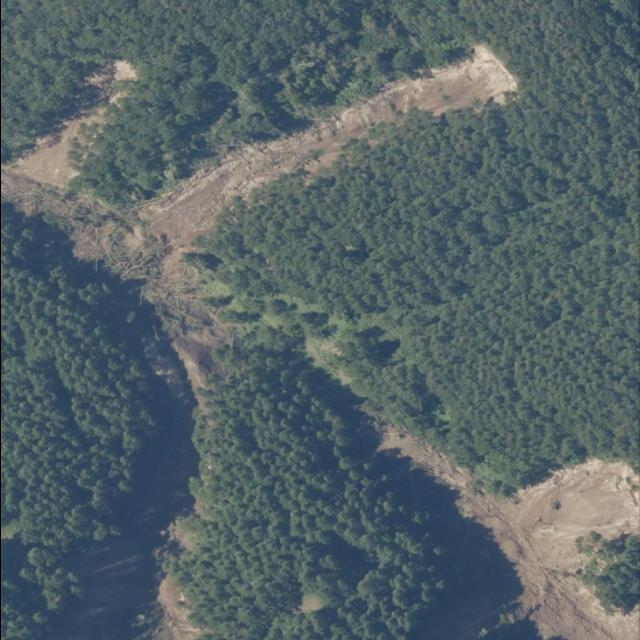landslide: (0, 44, 517, 274), (135, 44, 517, 249), (379, 427, 639, 640), (197, 401, 397, 631), (6, 60, 135, 188), (152, 576, 200, 640)
